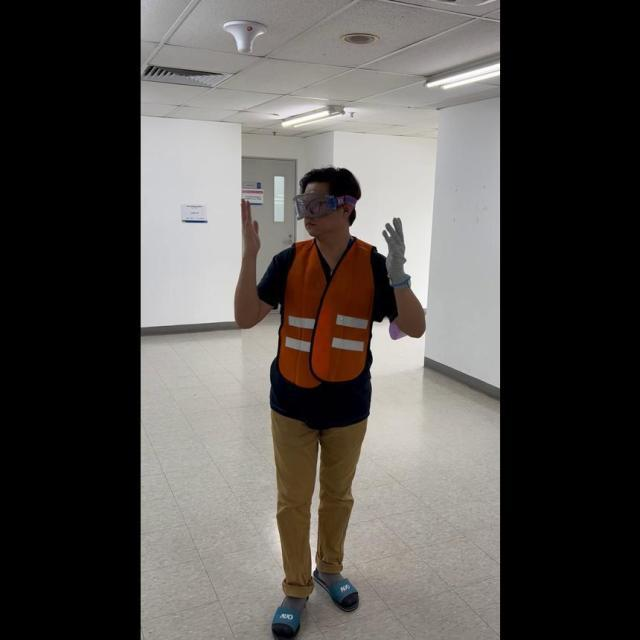bare_hand: (237, 196, 260, 269)
gloved_hand: (378, 214, 410, 284)
